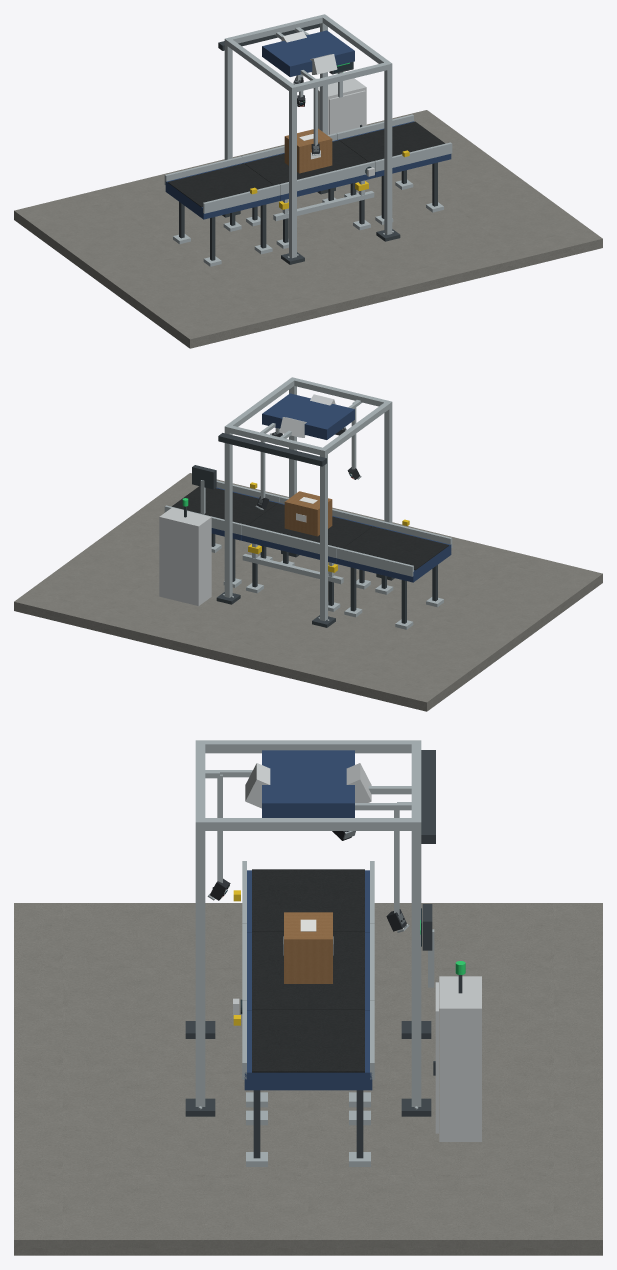
The picture shows the model from 3 angles, top to bottom: view 1: azimuth 30°, elevation 25°; view 2: azimuth 150°, elevation 25°; view 3: azimuth 270°, elevation 25°; orthographic projection. The views are drawn at different scales.
Visible parts, largest first — view 1: Concrete floor, TLX overhead cover, Infeed belt surface, Discharge belt surface, Weigh belt surface, Tunnel upright.002, Tunnel upright, Controller door, Sample carton, Infeed conveyor frame, Tunnel upright.001, Weigh side rail (+13 smaller); view 2: Concrete floor, Tunnel controller cabinet, TLX overhead cover, Infeed belt surface, Discharge belt surface, Weigh belt surface, Tunnel upright.003, Sample carton, Tunnel upright.001, Overhead cable raceway, Weigh side rail.001, Infeed conveyor frame (+10 smaller); view 3: Concrete floor, Discharge belt surface, Tunnel controller cabinet, Weigh belt surface, Infeed belt surface, TLX overhead cover, Sample carton, Tunnel upright.002, Discharge conveyor frame, Tunnel upright.003, Tunnel crossbeam.001, Tunnel crossbeam (+6 smaller).
Boxes of the visible parts, left/top/right/bottom form: Concrete floor: left=14, top=110, right=602, bottom=348; TLX overhead cover: left=262, top=30, right=354, bottom=76; Infeed belt surface: left=167, top=163, right=273, bottom=207; Discharge belt surface: left=339, top=121, right=444, bottom=162; Weigh belt surface: left=244, top=140, right=368, bottom=185; Tunnel upright.002: left=384, top=66, right=392, bottom=234; Tunnel upright: left=289, top=89, right=296, bottom=258; Controller door: left=329, top=90, right=365, bottom=134; Sample carton: left=284, top=128, right=332, bottom=173; Infeed conveyor frame: left=165, top=163, right=279, bottom=219; Tunnel upright.001: left=224, top=44, right=232, bottom=159; Weigh side rail: left=279, top=161, right=375, bottom=194; Concrete floor: left=14, top=473, right=602, bottom=711; Tunnel controller cabinet: left=159, top=507, right=211, bottom=606; TLX overhead cover: left=262, top=393, right=354, bottom=439; Infeed belt surface: left=343, top=526, right=449, bottom=570; Discharge belt surface: left=172, top=486, right=277, bottom=525; Weigh belt surface: left=248, top=503, right=372, bottom=548; Tunnel upright.003: left=224, top=428, right=232, bottom=597; Sample carton: left=284, top=491, right=332, bottom=536; Tunnel upright.001: left=320, top=452, right=327, bottom=621; Overhead cable raceway: left=218, top=433, right=326, bottom=466; Weigh side rail.001: left=241, top=524, right=337, bottom=557; Infeed conveyor frame: left=337, top=526, right=451, bottom=582; Concrete floor: left=14, top=903, right=602, bottom=1255; Discharge belt surface: left=252, top=1009, right=364, bottom=1072; Tunnel controller cabinet: left=439, top=976, right=481, bottom=1141; Weigh belt surface: left=252, top=931, right=364, bottom=1009; Infeed belt surface: left=252, top=869, right=364, bottom=931; TLX overhead cover: left=262, top=750, right=354, bottom=817; Sample carton: left=284, top=912, right=332, bottom=983; Tunnel upright.002: left=195, top=825, right=205, bottom=1106; Discharge conveyor frame: left=244, top=1010, right=372, bottom=1090; Tunnel upright.003: left=411, top=825, right=421, bottom=1106; Tunnel crossbeam.001: left=195, top=818, right=421, bottom=830; Tunnel crossbeam: left=195, top=740, right=421, bottom=753.
Bounding box in the file's own units: 6.5 × 2.84 × 4.8.
19 materials, 3 textured.
